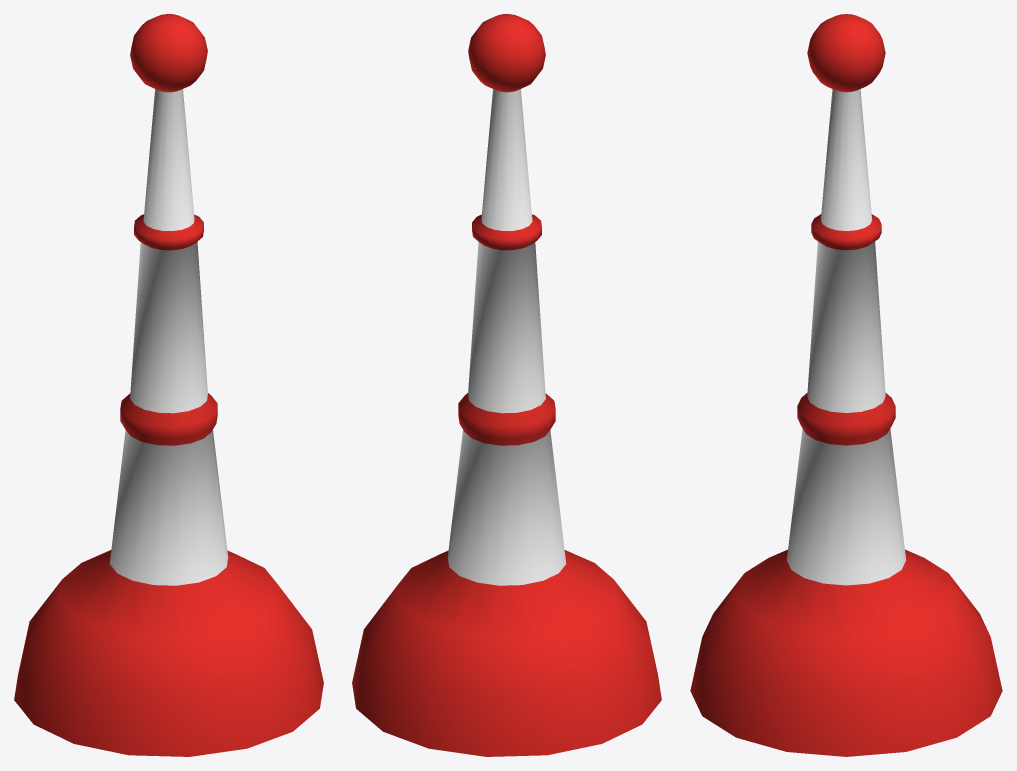
File: sentry_room_antenna.glb
The picture shows the model from 3 angles, left to right: view 1: azimuth 30°, elevation 25°; view 2: azimuth 150°, elevation 25°; view 3: azimuth 270°, elevation 25°; orthographic projection.
Visible parts, largest first — view 1: Antenna; view 2: Antenna; view 3: Antenna.
Boxes of the visible parts, x1,y1,x2,y2 form: Antenna: (14,14,323,756); Antenna: (352,14,661,756); Antenna: (690,14,1002,756).
Size of the model in its own units: 2 by 4.76 by 2.
